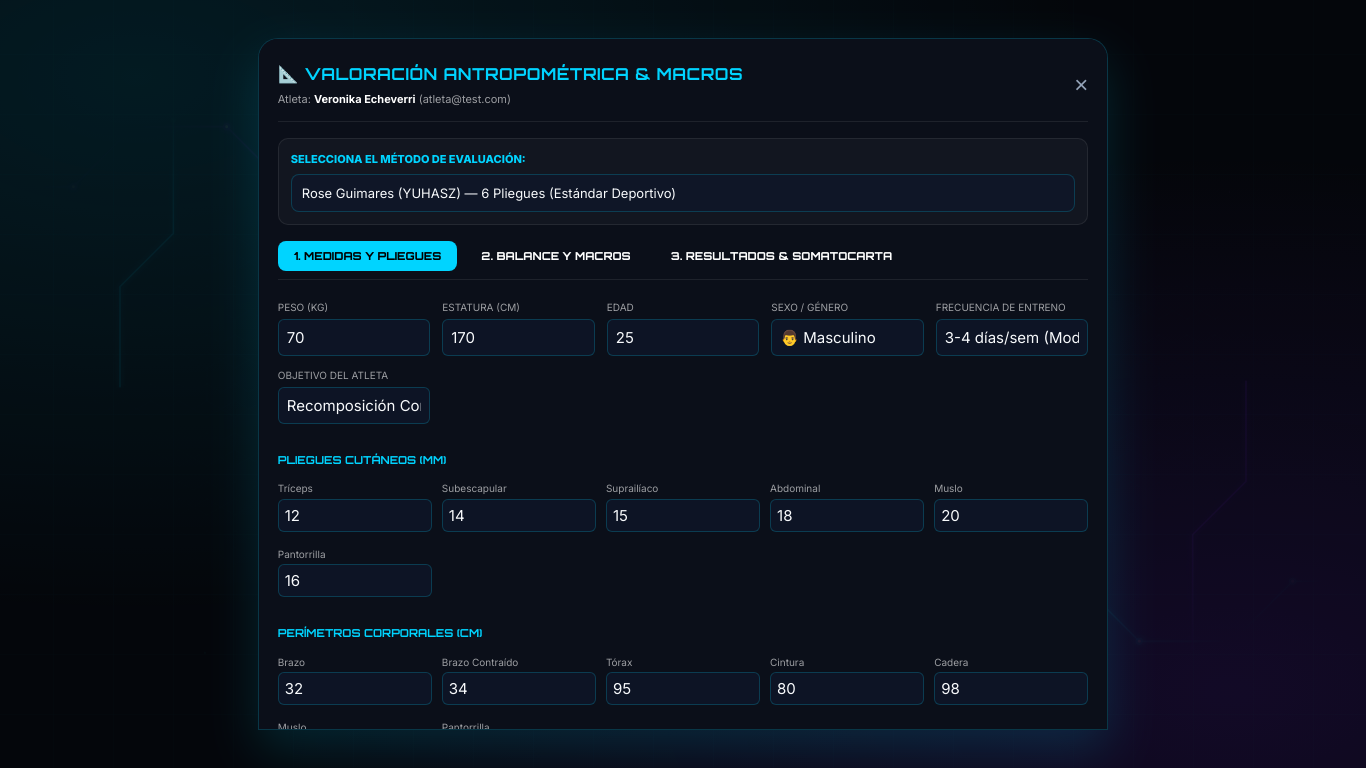
Test: AnthropometryModal Component › navega entre las pestañas (Medidas, Macros, Resultados)
The width and height of the screenshot is (1366, 768).
Step 1. Click the button "2. BALANCE Y MACROS" → (556, 256), box [465,241,647,271]
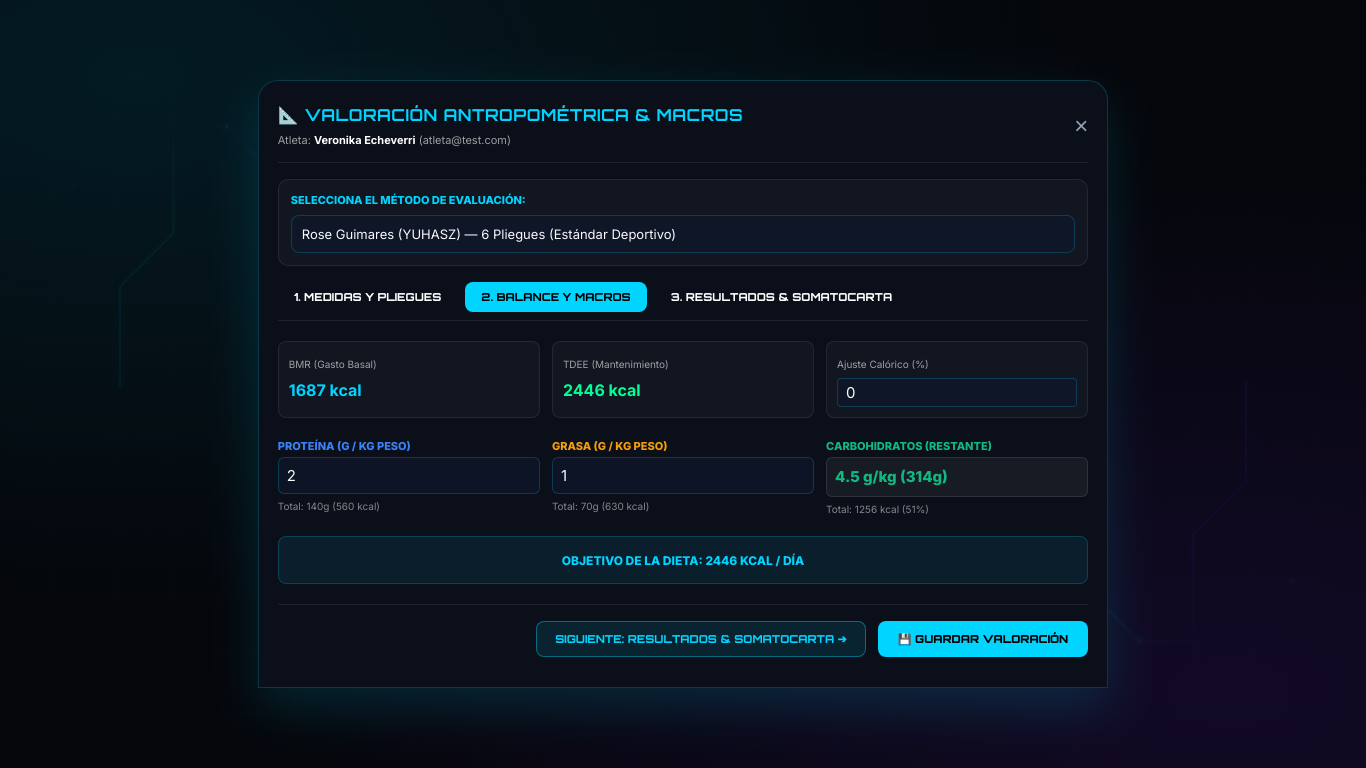
Expected: the text "BMR (Gasto Basal)" is shown, [289,358,377,370]
Step 2. Click the button "3. RESULTADOS & SOMATOCARTA" → (781, 297), box [655,282,908,312]
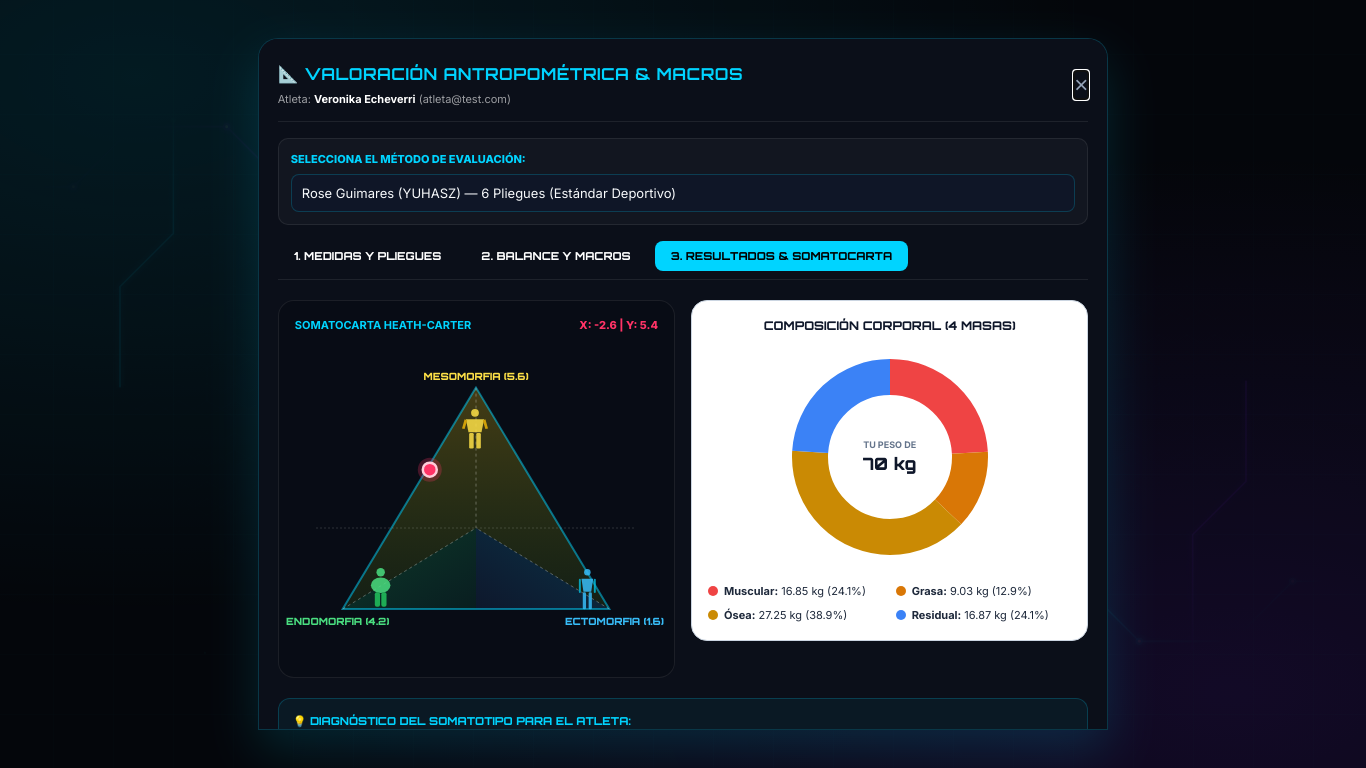
Expected: the text "SOMATOCARTA HEATH-CARTER" is shown, [295,317,471,333]
